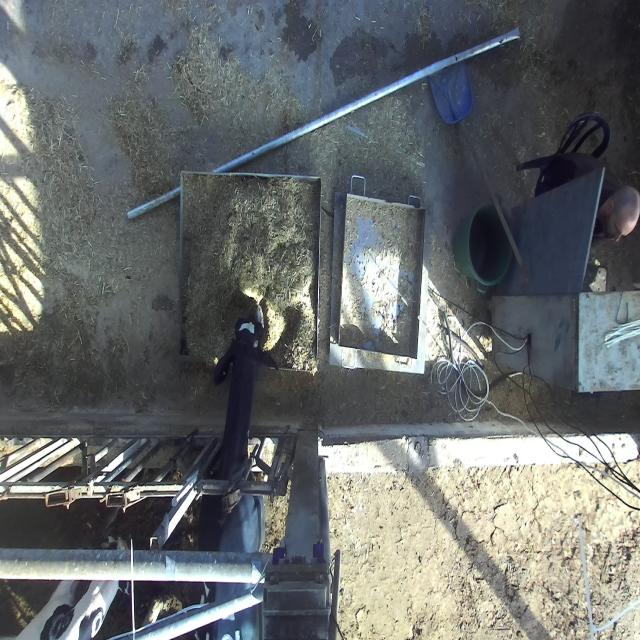cow: (209, 312, 278, 385)
